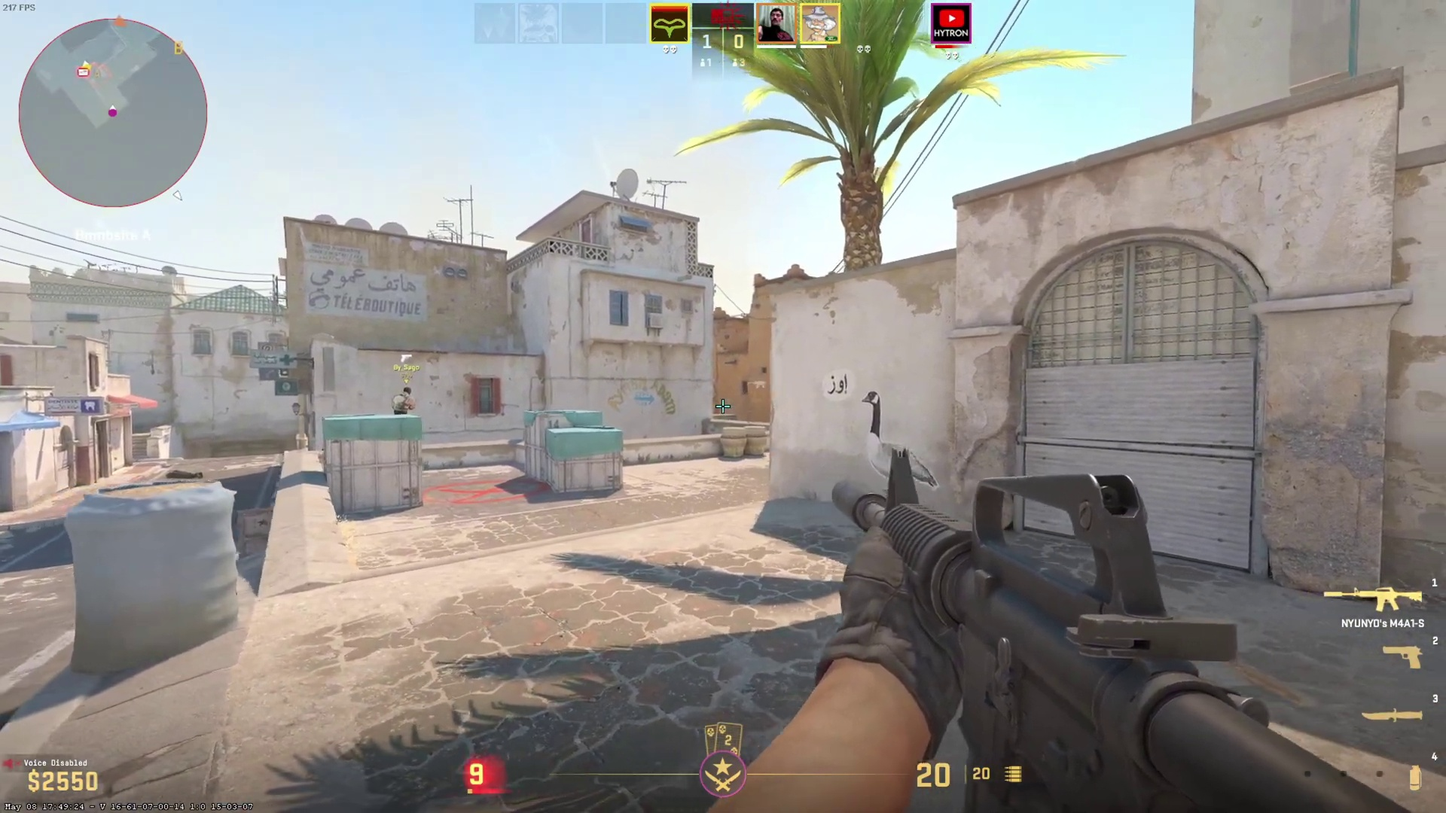Terrorist: (394, 383, 414, 417)
